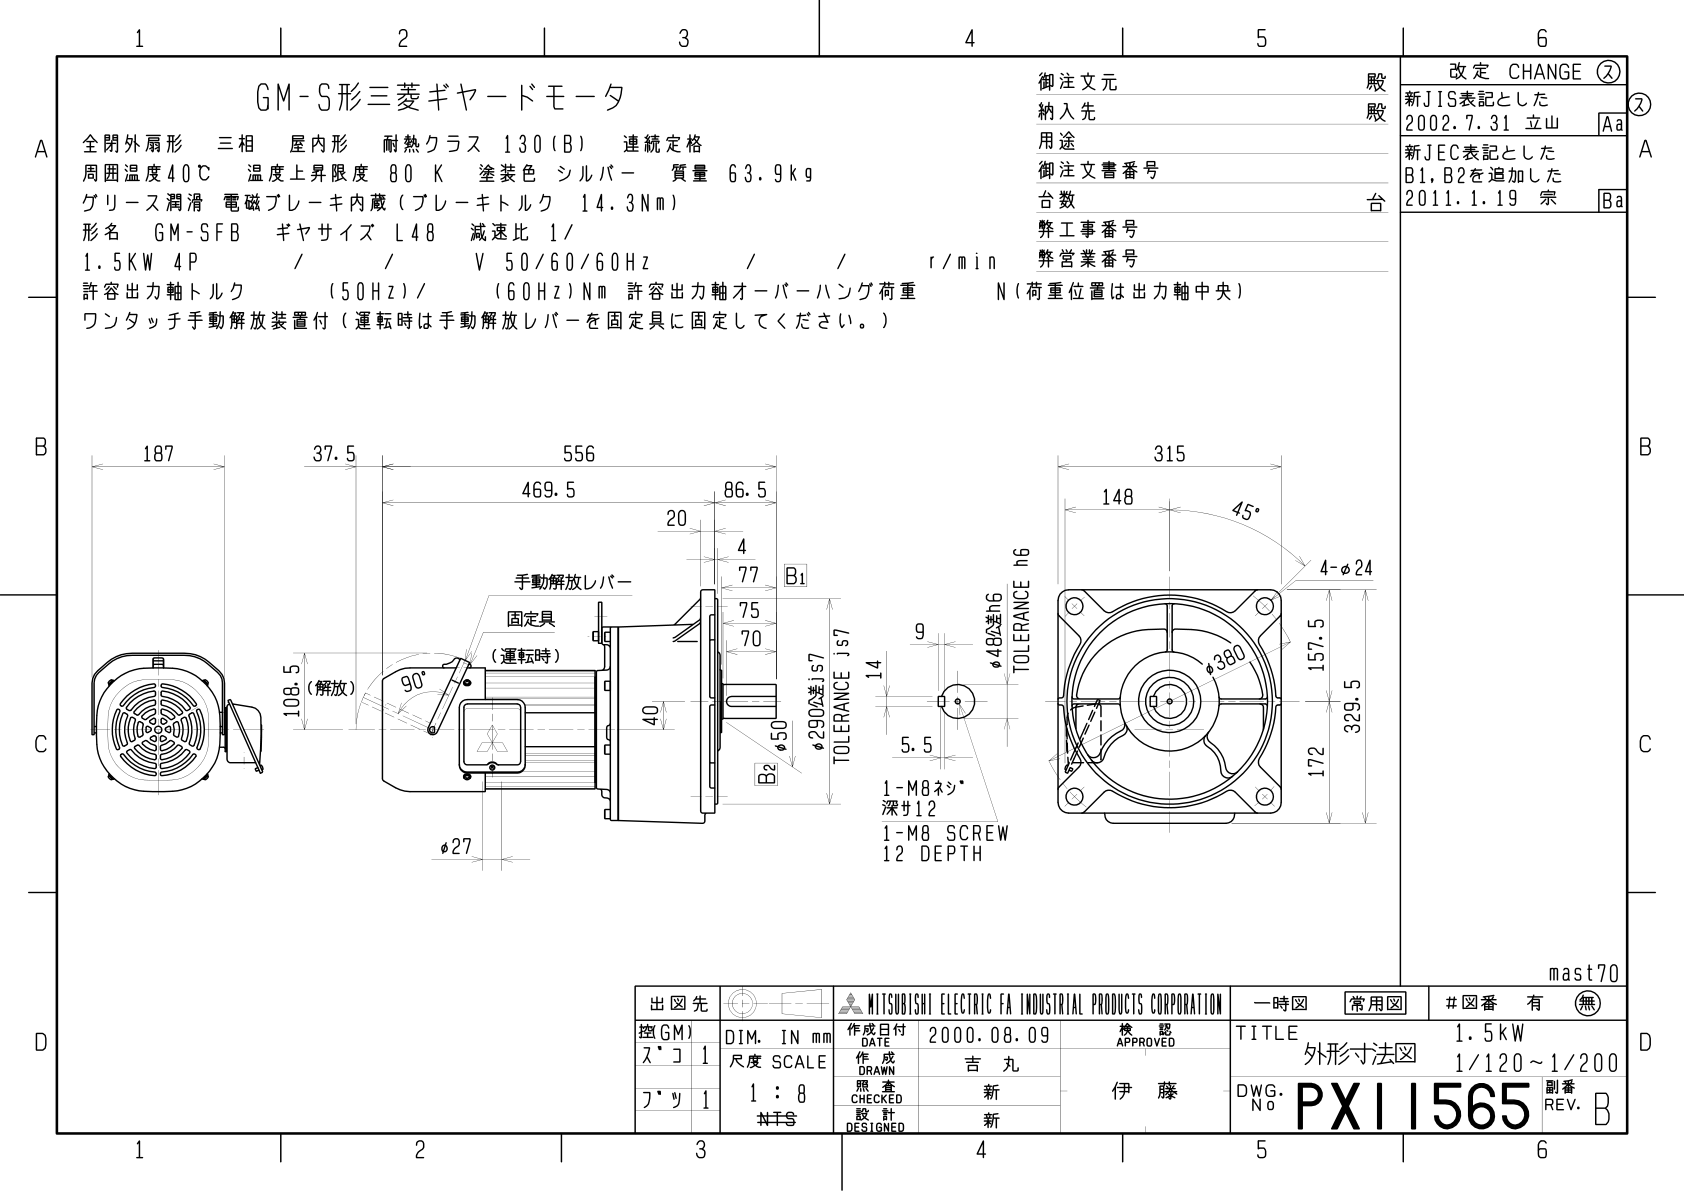GM_S_手動ブレーキ＿三相_フランジ: (70, 410, 1399, 892)
